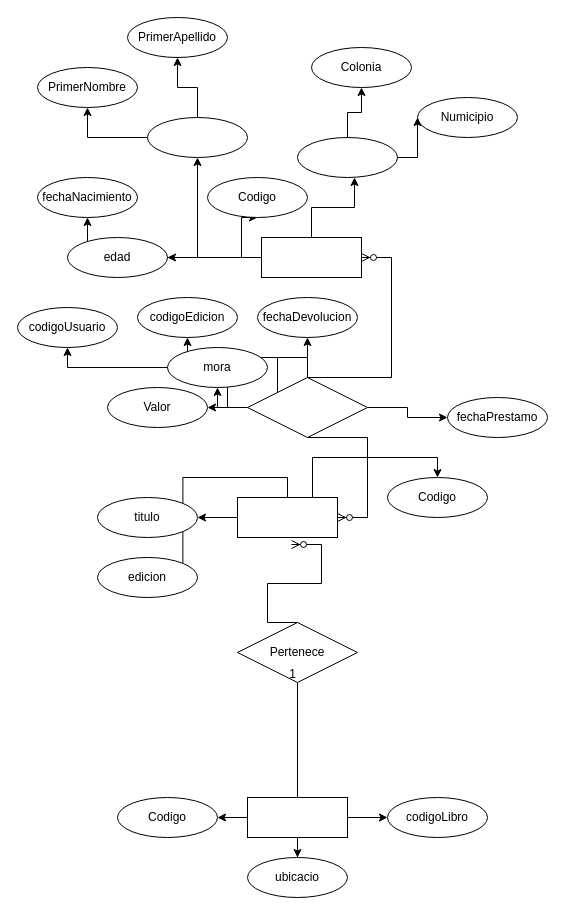
Some shapes in this 565 by 915 pixel diagram are drawn without their labels. The shapes that lost their labels are listed below. From the top down, each one's box as (x1, y1, x2, y2) in pixels, then its label:
(146, 116, 248, 158): Nombre
(296, 136, 398, 178): Direccion
(260, 236, 362, 278): usuario
(246, 376, 368, 438): presta
(236, 496, 338, 538): libro
(246, 796, 348, 838): copia
